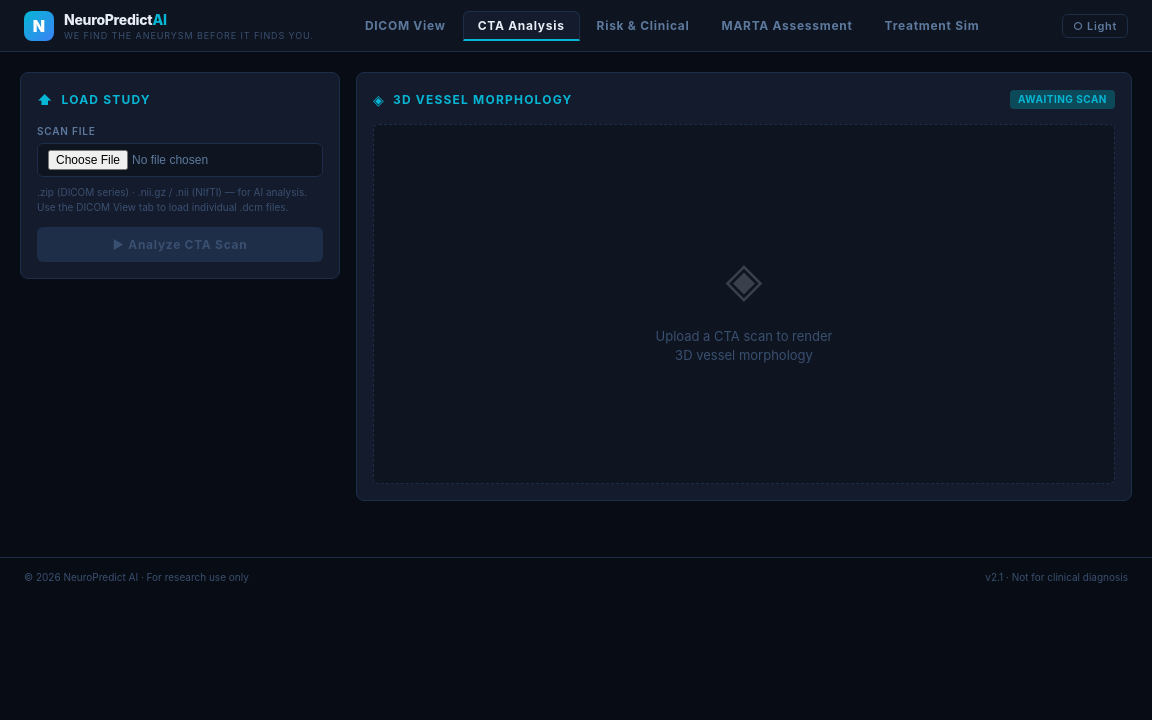
Test case: App › shows treatment gating message when Treatment Sim tab is clicked without a scan
What coordinates should you click on to do the following:
click the button "Treatment Sim"
I would click on:
 (932, 26)
Its box is [870,11,994,41].
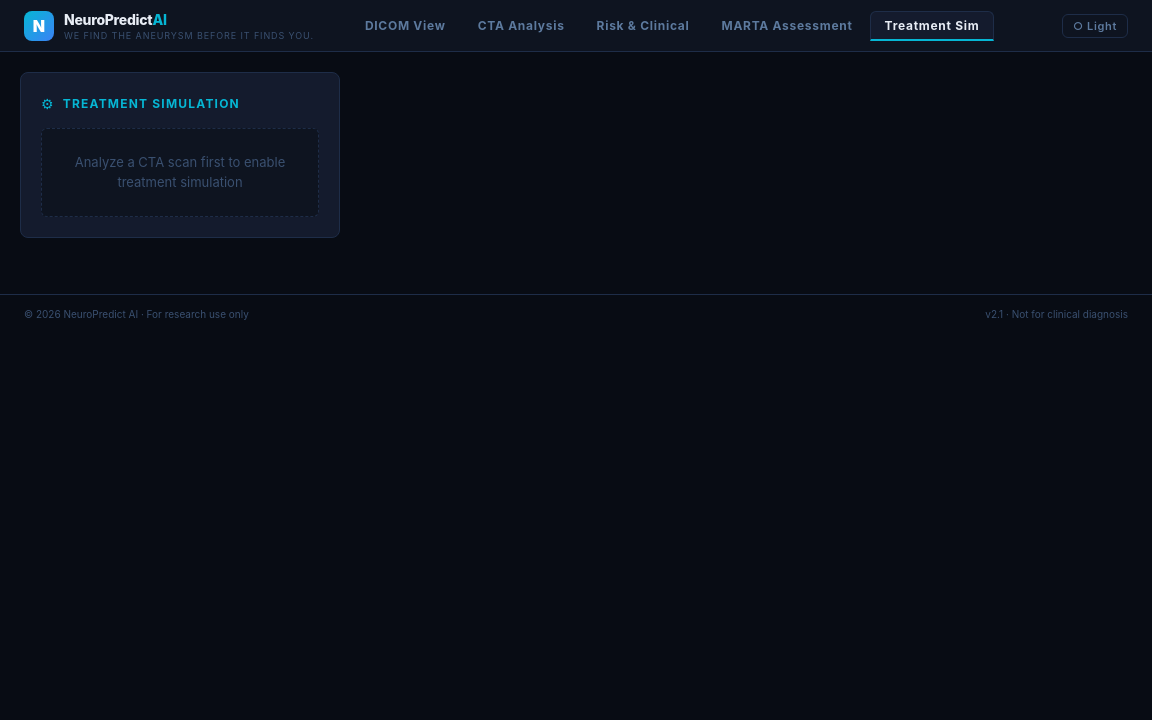
Expected: the text "Analyze a CTA scan first to enable treatment simulation" is shown, [41,128,319,217]
